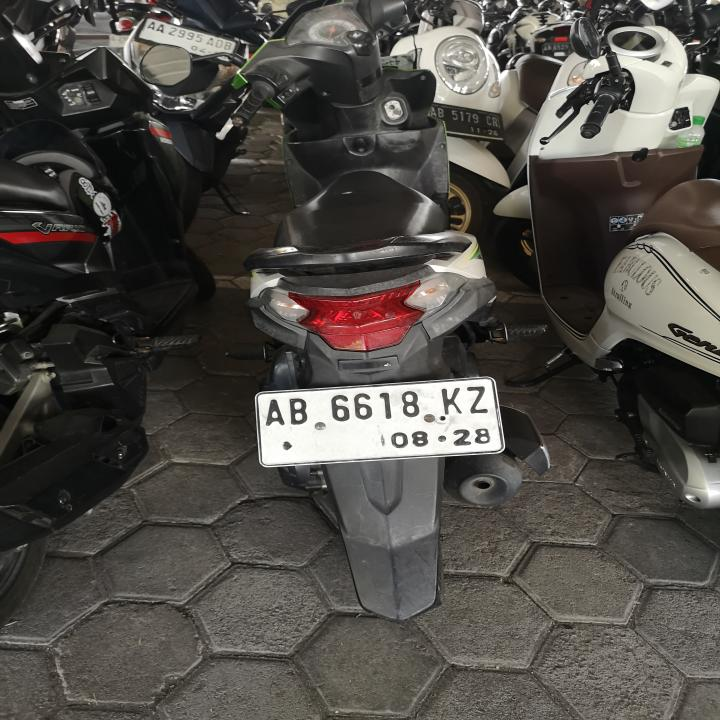plate: (251, 373, 510, 470), (135, 15, 241, 66), (429, 101, 506, 141)
